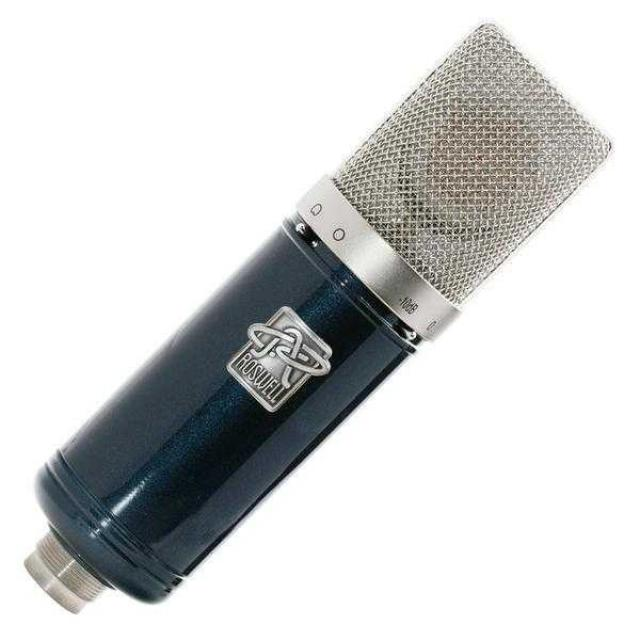microphone: (28, 22, 607, 615)
